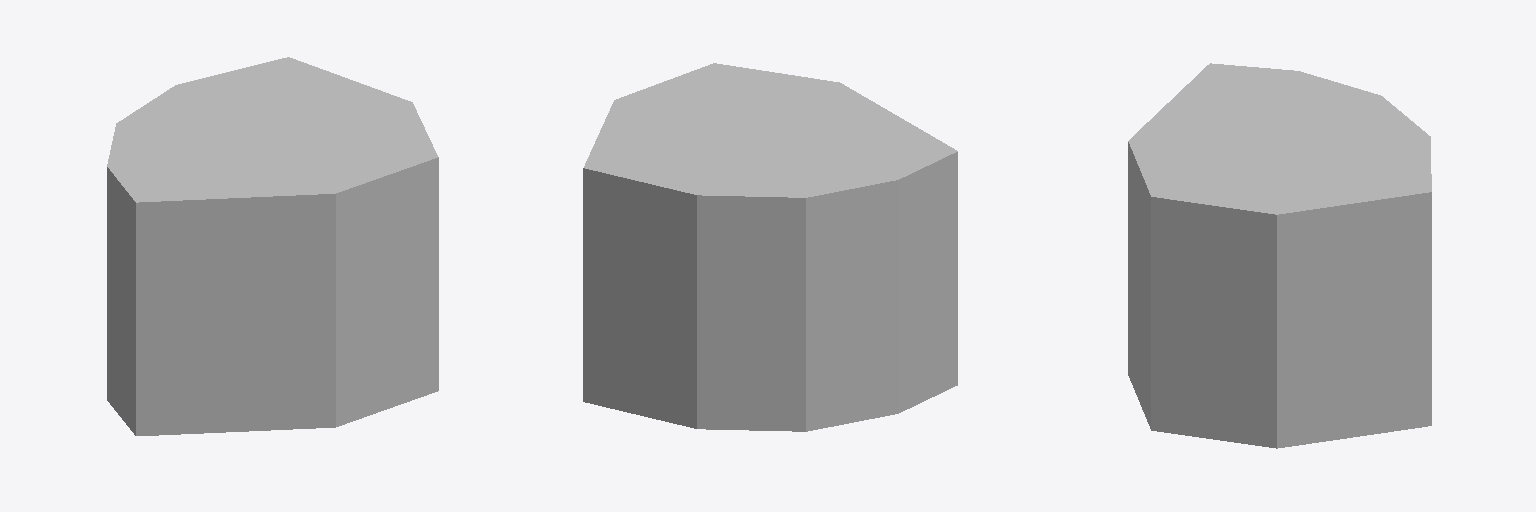
File: platformEmptyStoneCOLL.obj
3 renders of one model, left to right at view 1: azimuth 30°, elevation 25°; view 2: azimuth 150°, elevation 25°; view 3: azimuth 270°, elevation 25°, orthographic.
Parts seen in each view (by area): view 1: platformEmptyStoneCOLL PlatfprmsAndSpikes; view 2: platformEmptyStoneCOLL PlatfprmsAndSpikes; view 3: platformEmptyStoneCOLL PlatfprmsAndSpikes.
Boxes of the visible parts, box(x1,y1,x2,y2) form: platformEmptyStoneCOLL PlatfprmsAndSpikes: box(107, 57, 438, 435); platformEmptyStoneCOLL PlatfprmsAndSpikes: box(583, 63, 957, 431); platformEmptyStoneCOLL PlatfprmsAndSpikes: box(1128, 63, 1431, 448).
Bounding box in the file's own units: 8.87 × 6.38 × 7.51.